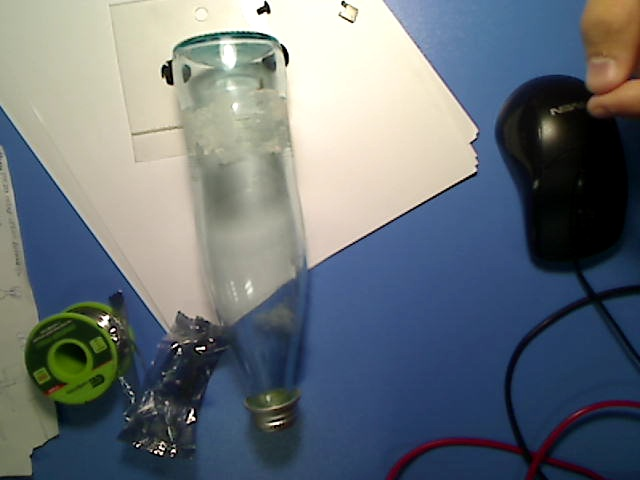bottle: (171, 32, 307, 435)
